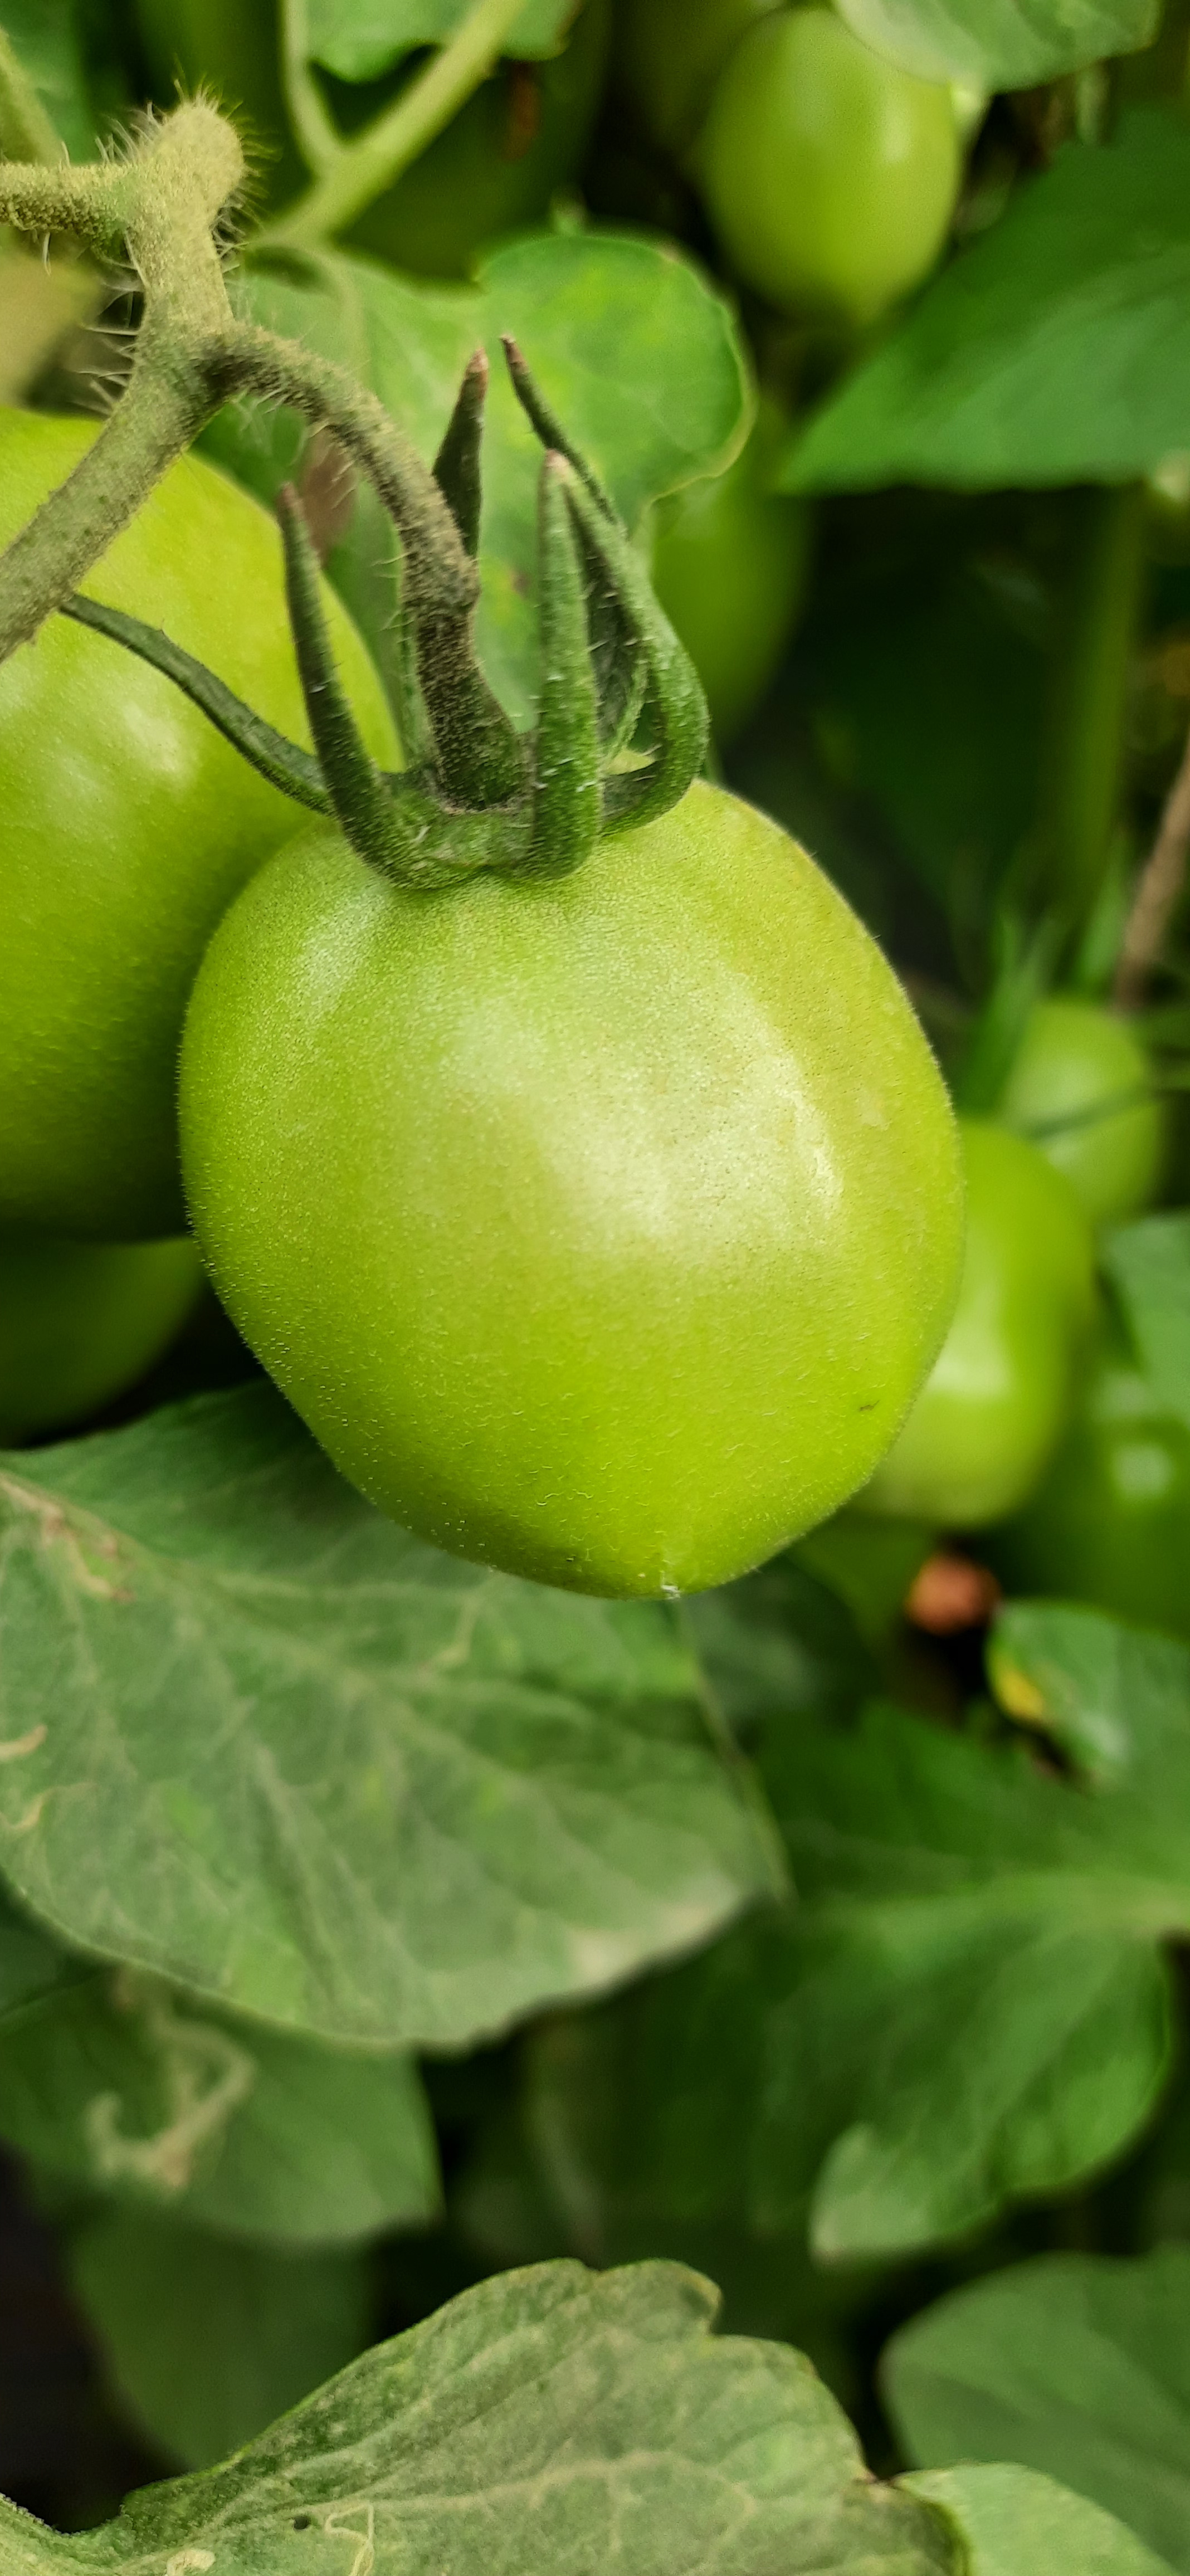raw_tomato: (179, 677, 1001, 1692)
